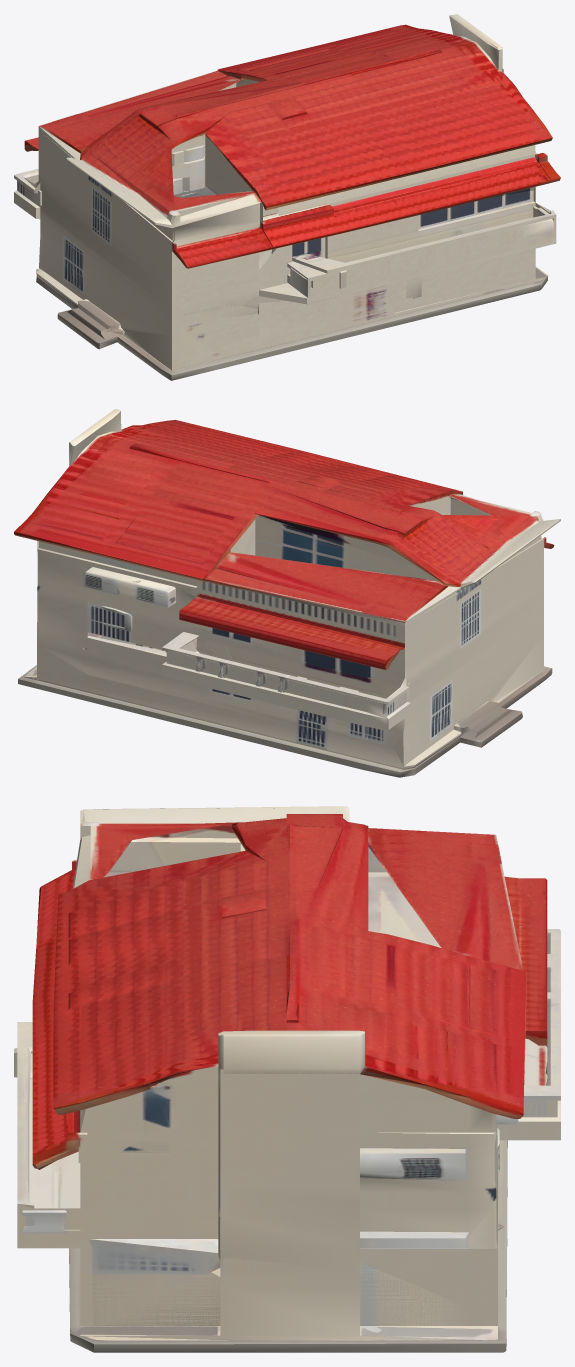
File: placed_bld_406278425.glb
3 views of the same model, one above another, from view 1: azimuth 30°, elevation 25°; view 2: azimuth 150°, elevation 25°; view 3: azimuth 270°, elevation 25° (orthographic). The views are drawn at different scales.
Parts seen in each view (by area): view 1: bld_406278425; view 2: bld_406278425; view 3: bld_406278425.
Part boxes in pixels (bbox=[...]): bld_406278425: bbox=[14, 14, 560, 380]; bld_406278425: bbox=[14, 409, 560, 777]; bld_406278425: bbox=[14, 806, 560, 1352].
Bounding box in the file's own units: 23.19 × 11.2 × 17.53.
1 material, 1 textured.
